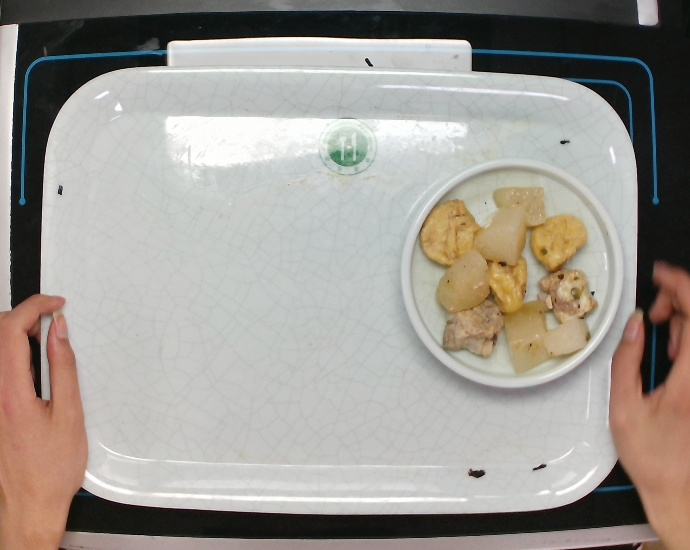JYsf-Xiao_Yuan_Pan: (394, 153, 629, 394)
